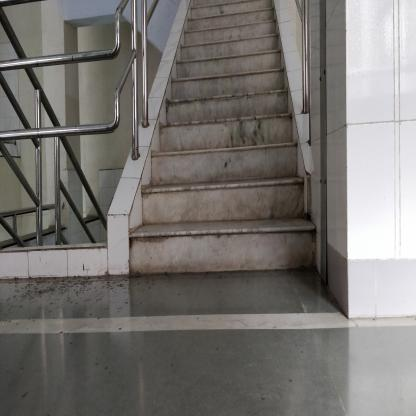stairs: (190, 34, 275, 283)
